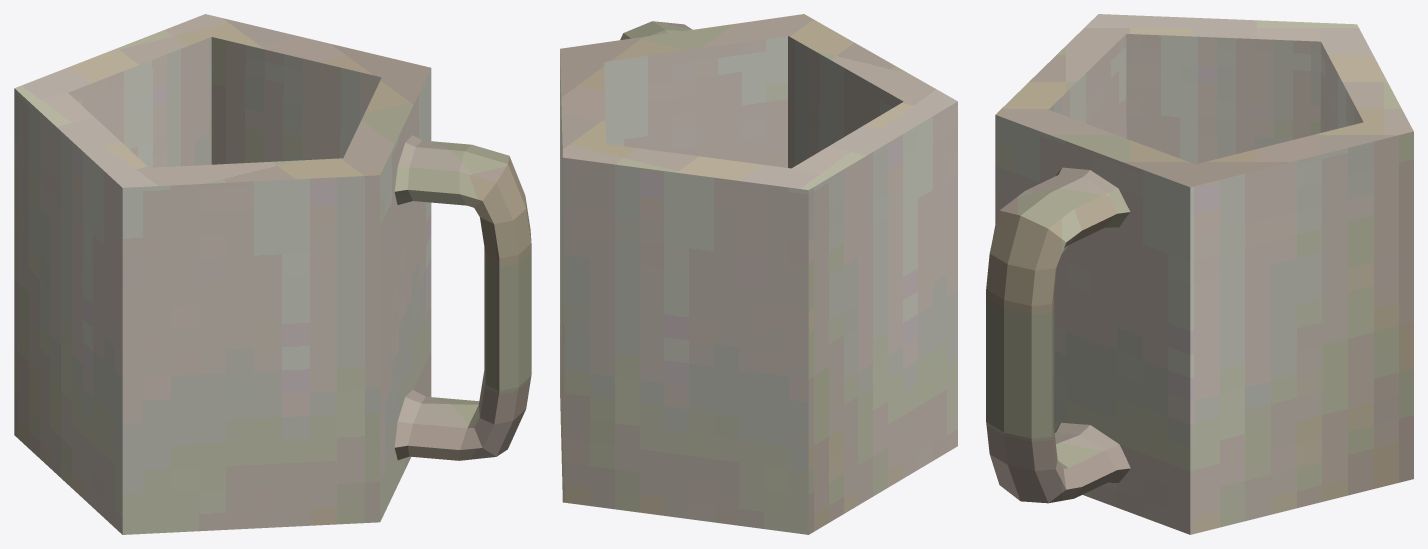
File: mug.obj
3 renders of one model, left to right at view 1: azimuth 30°, elevation 25°; view 2: azimuth 150°, elevation 25°; view 3: azimuth 270°, elevation 25°, orthographic.
Visible parts, largest first — view 1: mug; view 2: mug; view 3: mug.
Boxes of the visible parts, x1,y1,x2,y2 form: mug: [14, 14, 531, 534]; mug: [560, 14, 957, 534]; mug: [986, 14, 1413, 534].
Bounding box in the file's own units: 0.139 × 0.123 × 0.1372.
